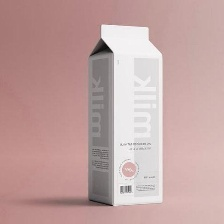carton: (71, 21, 168, 210)
